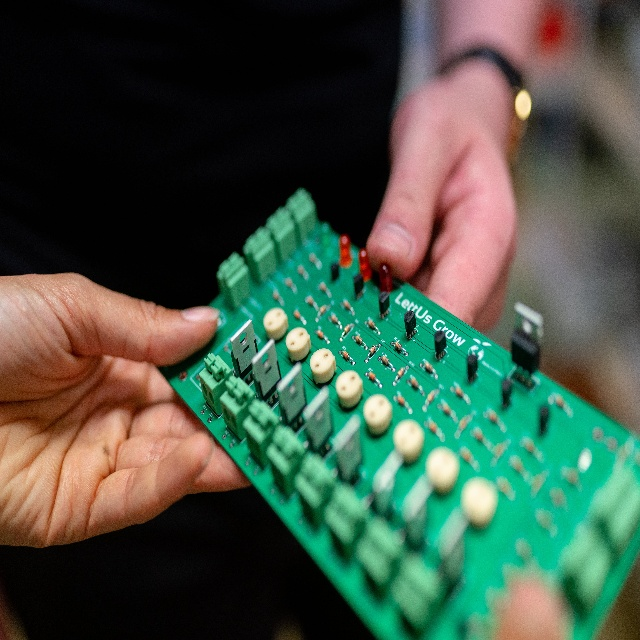Sin_guantes: (0, 271, 254, 549), (365, 75, 519, 330)
